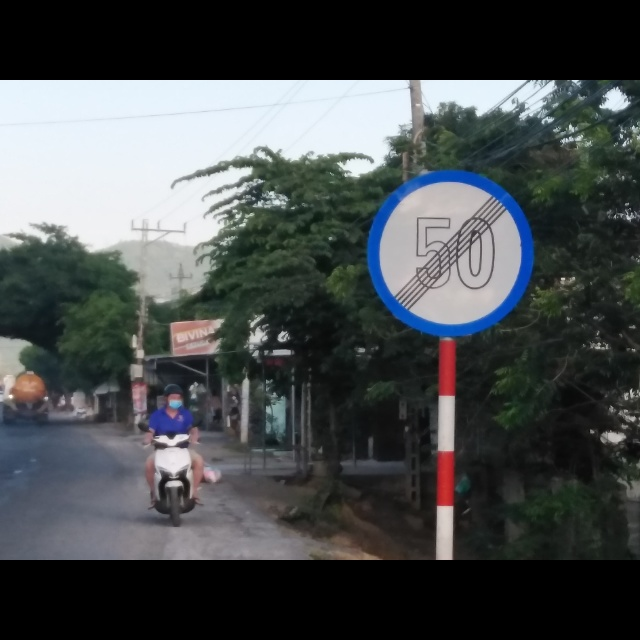Hết hạn chế tốc độ tối đa 50km/h: (364, 163, 536, 338)
